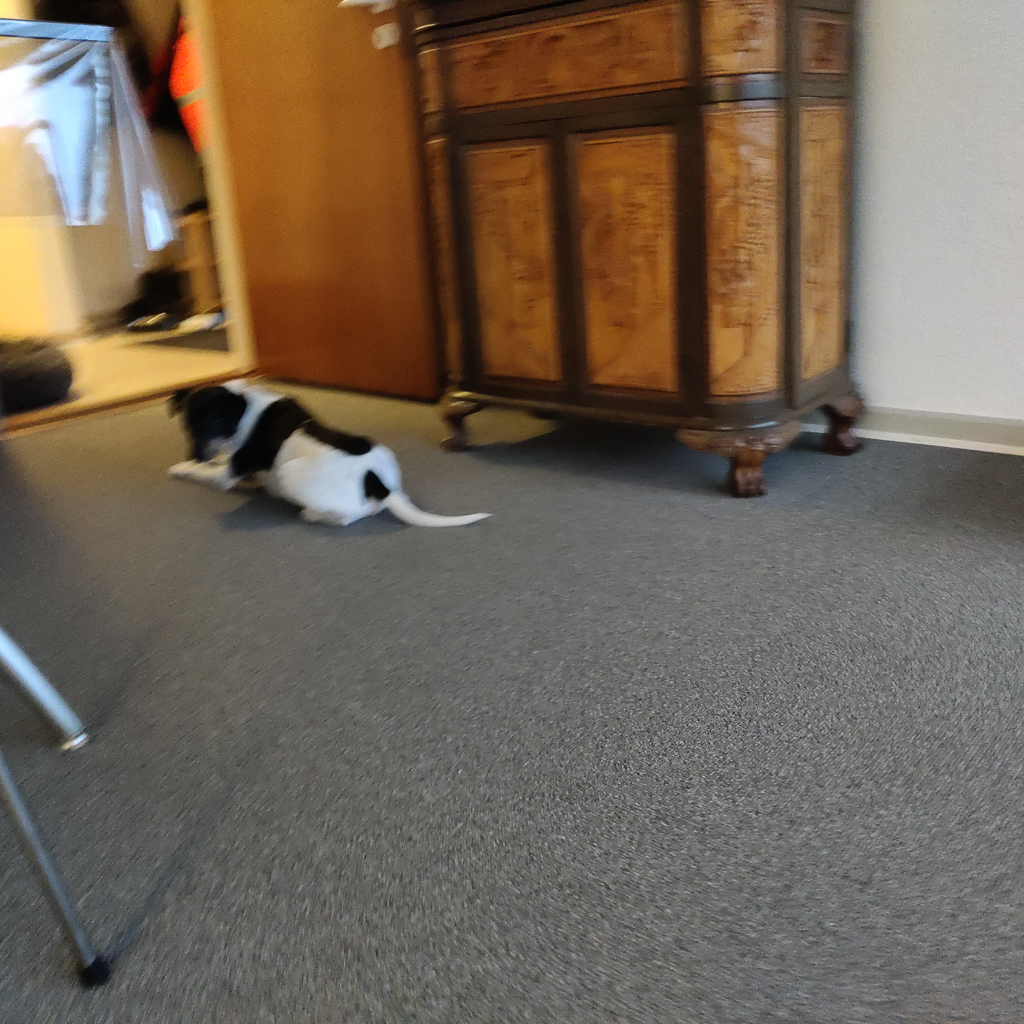Dog: (145, 361, 500, 537)
